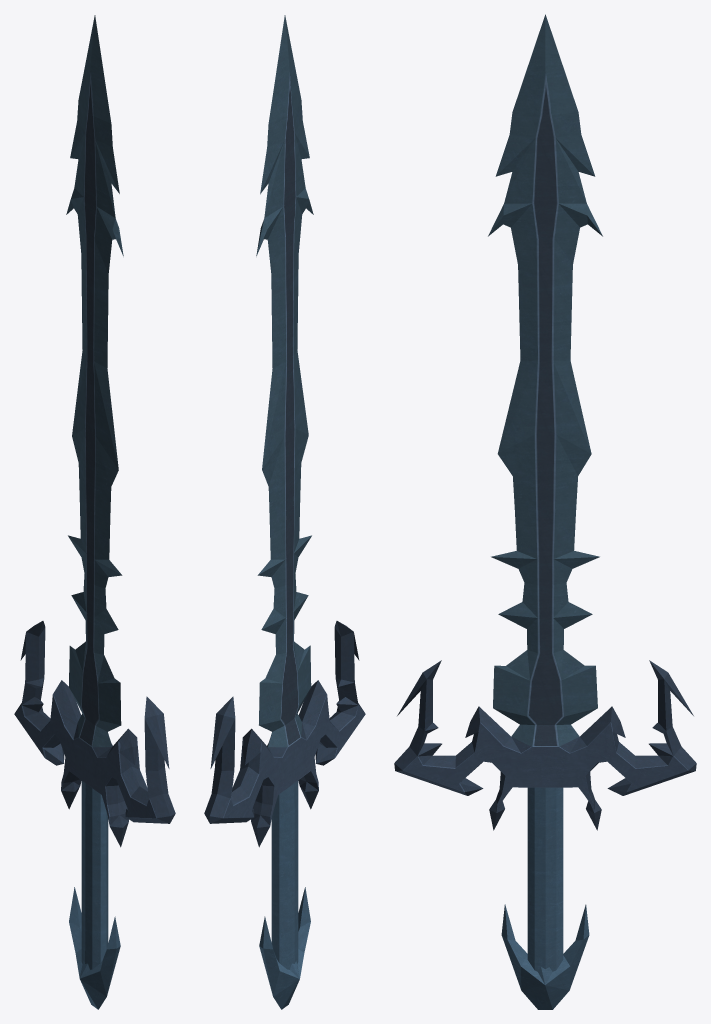
The model's file is Sword.obj.
The picture shows the model from 3 angles, left to right: view 1: azimuth 30°, elevation 25°; view 2: azimuth 150°, elevation 25°; view 3: azimuth 270°, elevation 25°; orthographic projection.
Visible parts, largest first — view 1: Sword:Mesh; view 2: Sword:Mesh; view 3: Sword:Mesh.
Part boxes in pixels (<box>): Sword:Mesh: <box>14,15,175,1009</box>; Sword:Mesh: <box>204,15,365,1009</box>; Sword:Mesh: <box>394,14,696,1009</box>.
Size of the model in its own units: 0.4759 by 15.04 by 4.14.
